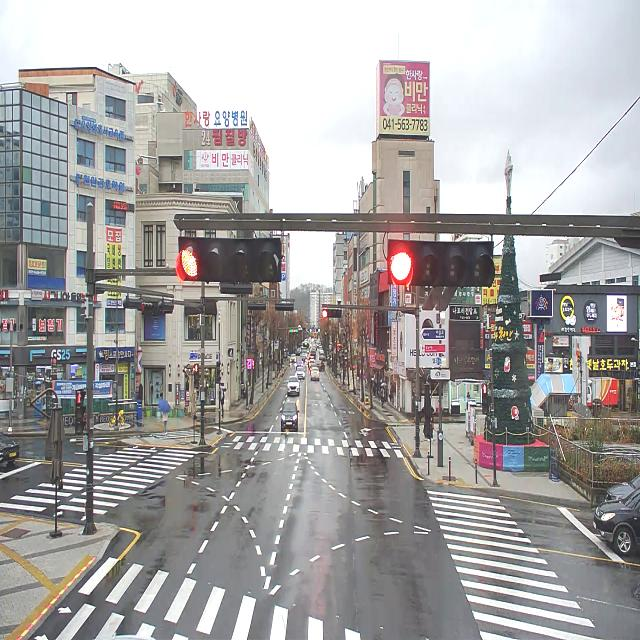Bus: (303, 341, 309, 353)
Car: (593, 488, 640, 555), (604, 473, 640, 503), (0, 431, 20, 463), (280, 401, 300, 429), (288, 376, 300, 393), (310, 368, 320, 381), (296, 367, 305, 378), (317, 360, 325, 371), (310, 364, 317, 374), (309, 359, 315, 370), (308, 356, 314, 366), (296, 361, 303, 369), (290, 354, 296, 362), (319, 352, 325, 360), (310, 351, 316, 358)
